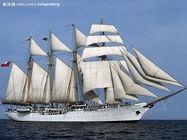fanchuan: (2, 15, 187, 125)
